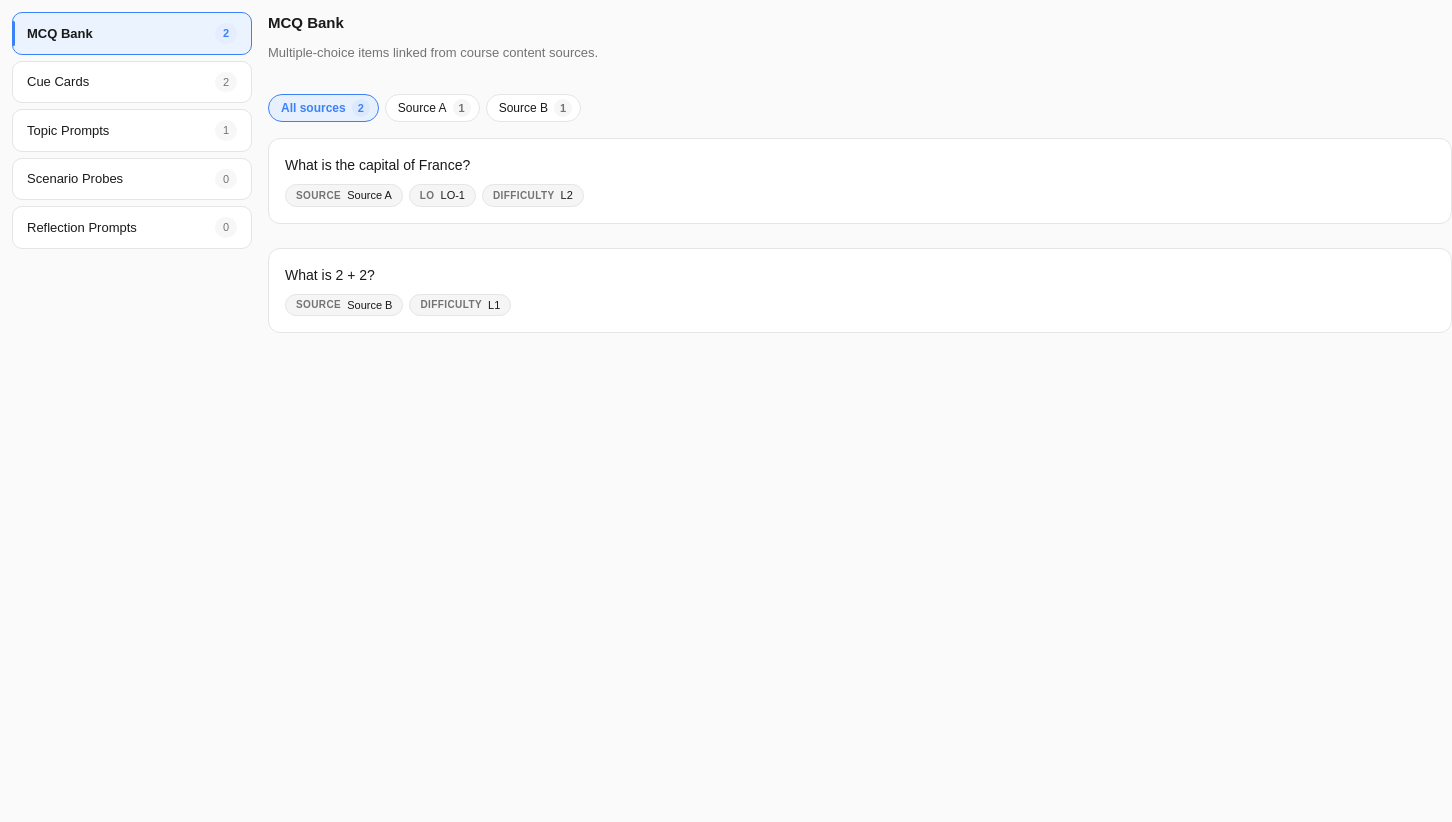
Test: <CourseContentTab> — Content tab skeleton (#2204) › clicking an LH group switches the RHS detail content
Expected: the element with test id "hf-content-detail-mcqs" is shown, [268,12,1451,349]
What coordinates should you click on to do the following:
click the button with test id "hf-content-lh-row-cueCards"
I would click on:
 (132, 82)
Its box is [12,60,252,103].
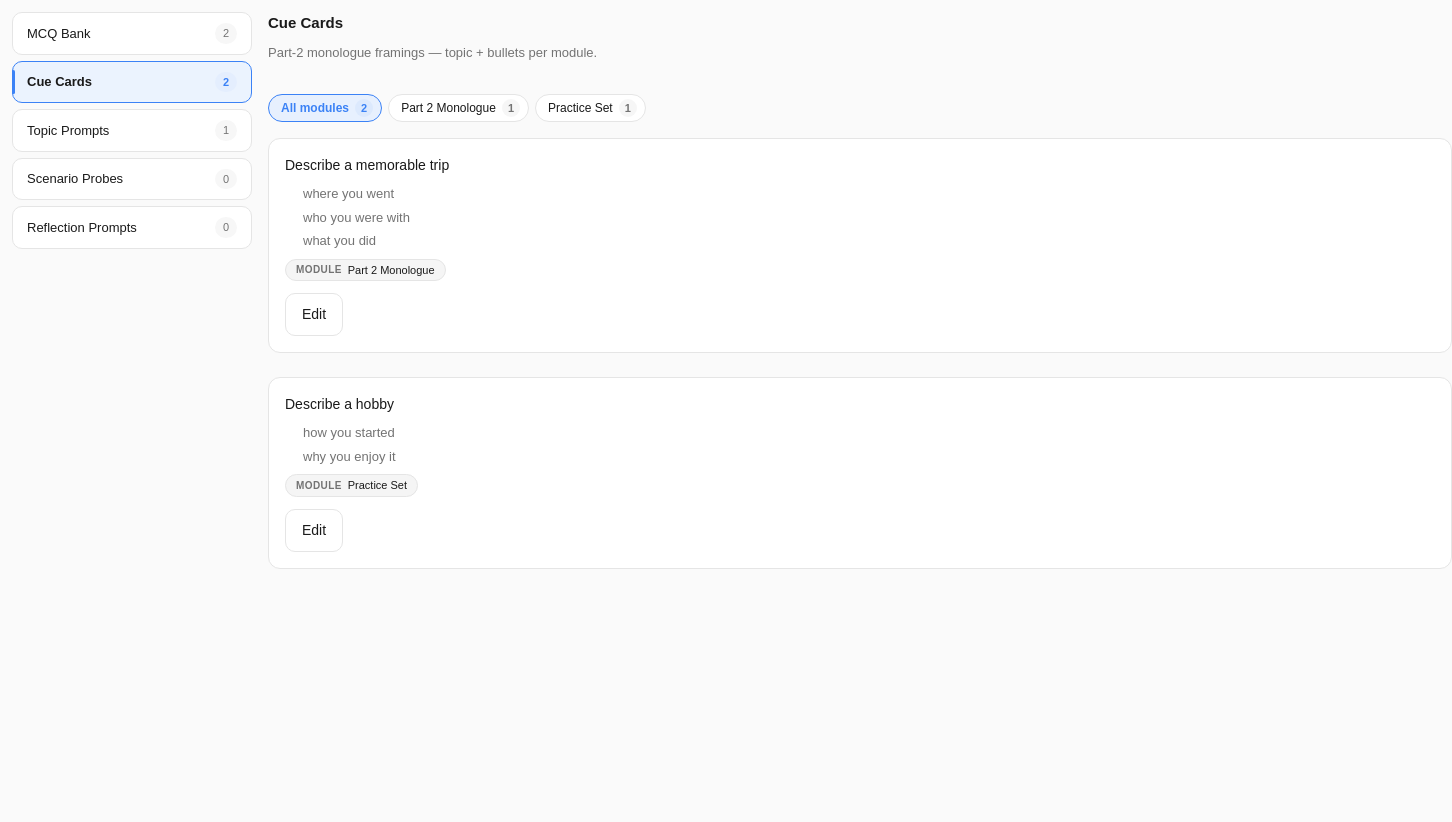
Now the element with test id "hf-content-detail-cueCards" is shown, box [268,12,1451,584]
Now the list item with test id "hf-content-cue-mod-1:cue:0" is shown, box [268,138,1451,353]
Now the list item with test id "hf-content-mcq-mcq-1" is gone
